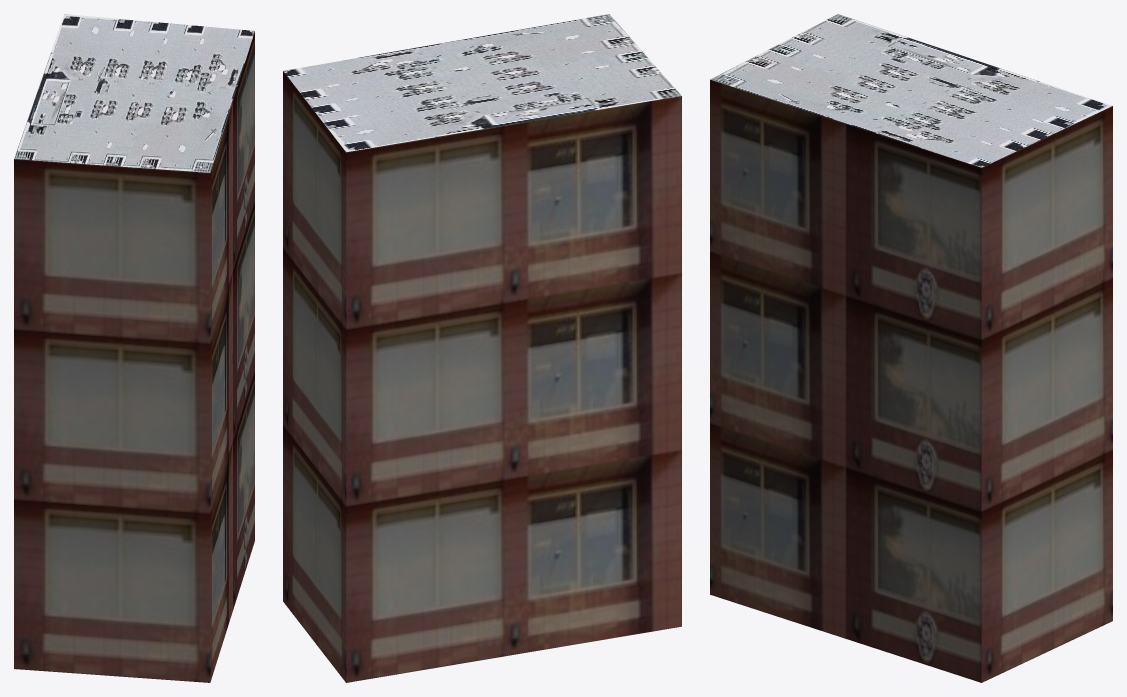
The model's file is ResTex__666.fbx.
3 views of the same model, side by side, from view 1: azimuth 30°, elevation 25°; view 2: azimuth 150°, elevation 25°; view 3: azimuth 270°, elevation 25° (orthographic). The views are drawn at different scales.
Parts seen in each view (by area): view 1: CityEngineMaterial_13_m, CityEngineMaterial_4_m; view 2: CityEngineMaterial_13_m, CityEngineMaterial_4_m; view 3: CityEngineMaterial_13_m, CityEngineMaterial_4_m.
Part boxes in pixels (x1=…): CityEngineMaterial_13_m: x1=14, y1=31, x2=254, y2=682; CityEngineMaterial_4_m: x1=14, y1=14, x2=254, y2=172; CityEngineMaterial_13_m: x1=283, y1=71, x2=681, y2=682; CityEngineMaterial_4_m: x1=283, y1=14, x2=681, y2=152; CityEngineMaterial_13_m: x1=710, y1=79, x2=1112, y2=682; CityEngineMaterial_4_m: x1=710, y1=14, x2=1112, y2=167.
Bounding box in the file's own units: 5.76 × 9 × 6.38.
Materials: 2 (2 with a texture image).
